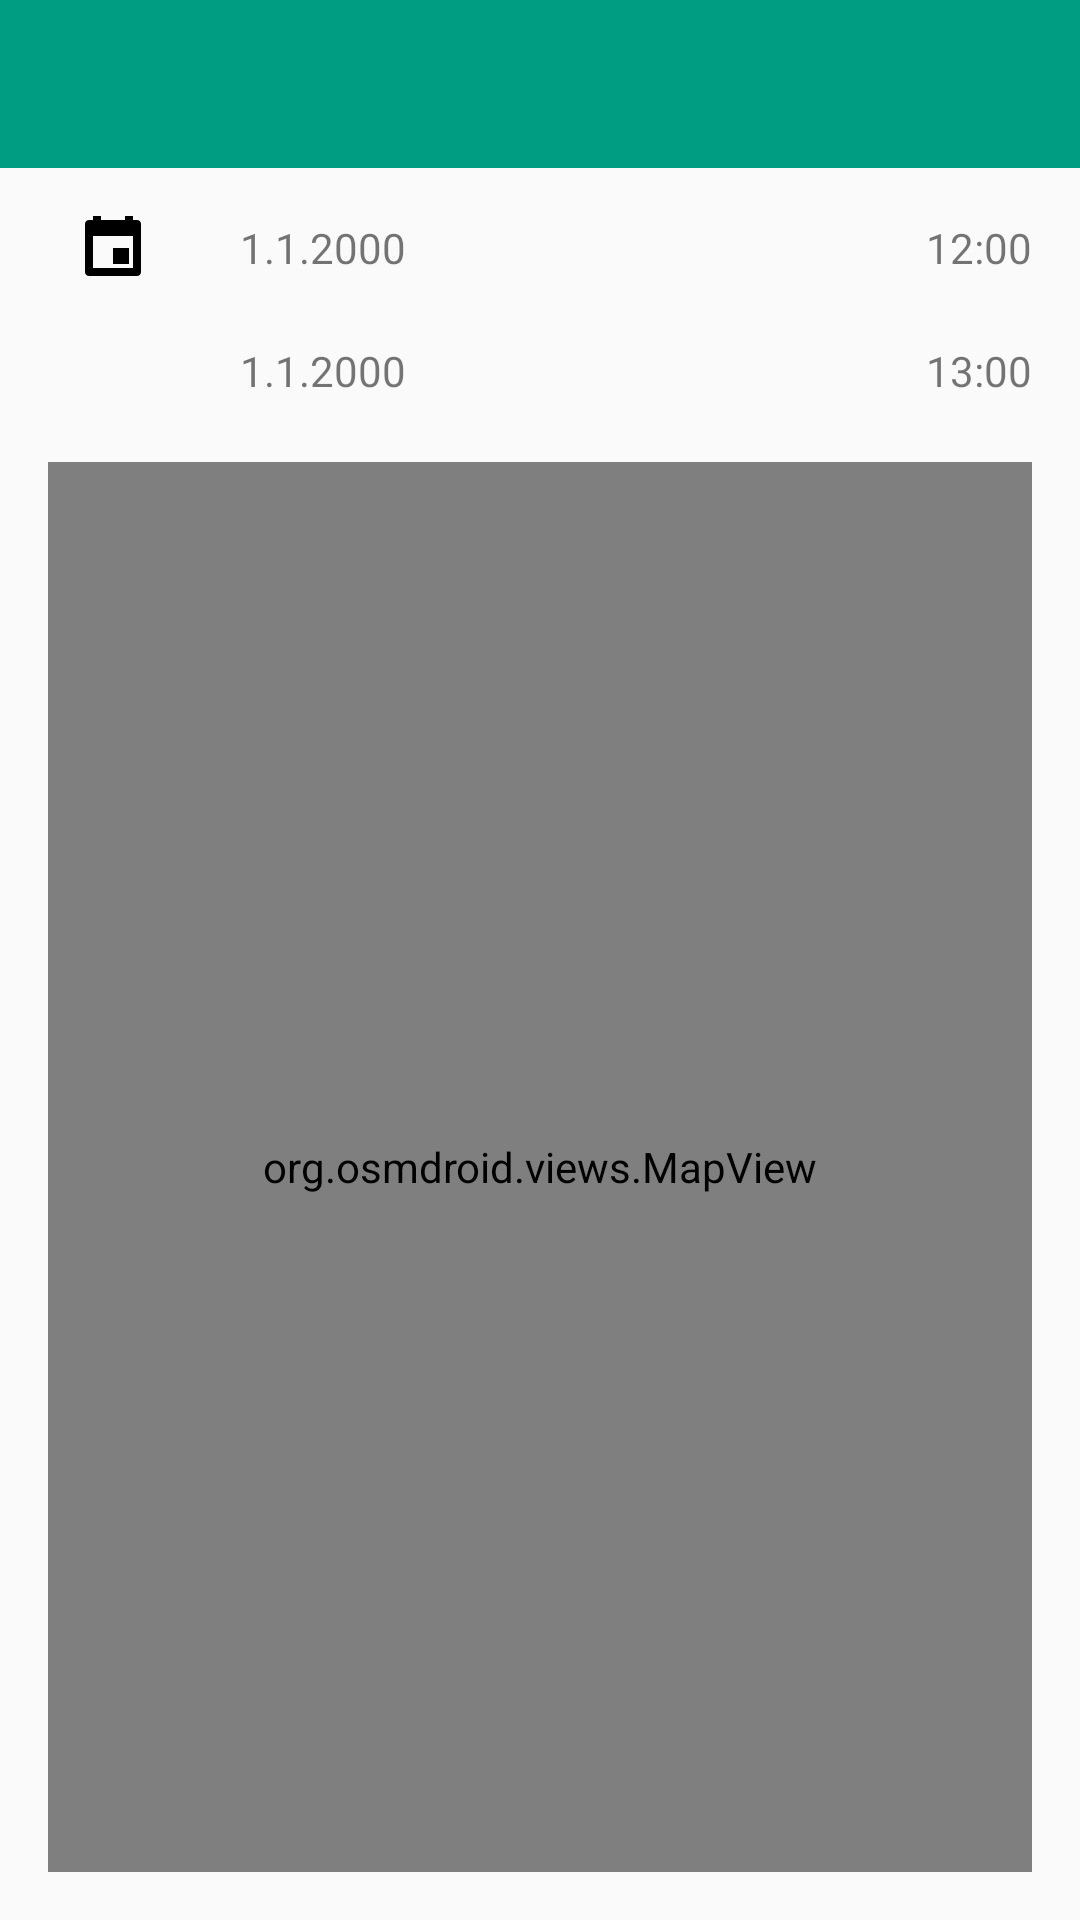

Locate icon controls on the screen. Image size 1080 × 1920, boxes as [left=x1, top=y1, right=x2, bottom=y2].
event: [left=85, top=216, right=141, bottom=276]
